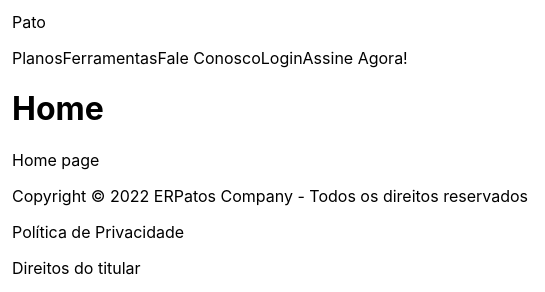
Test: Navigation › should navigate to the plans page
The image size is (545, 292).
Note: Find a link with an href attribute containing "plans" and click it
Click the link "Planos".
click(38, 58)  # box left=12, top=48, right=63, bottom=68
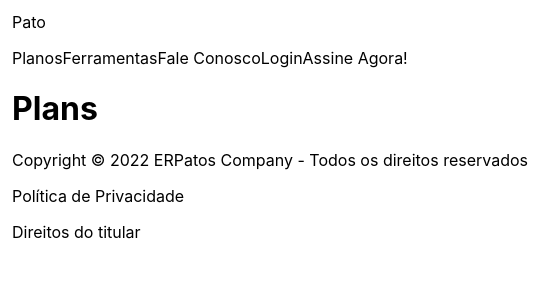
Check: the heading "Plans" is shown, box left=12, top=89, right=98, bottom=128
